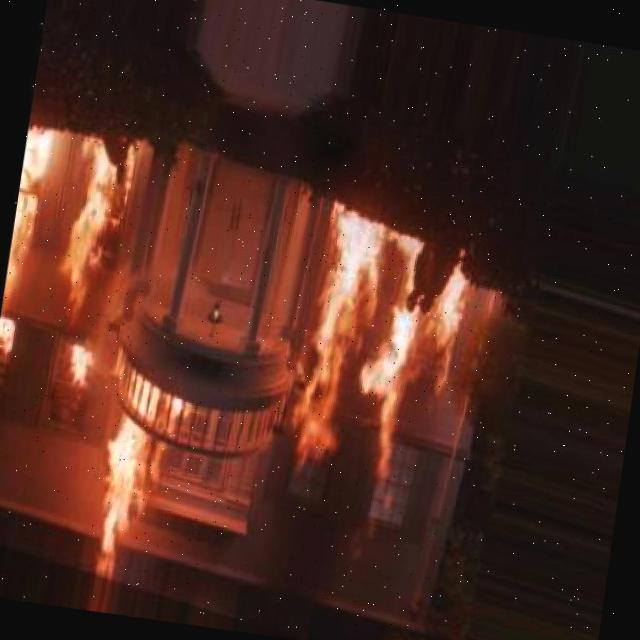fire: (346, 255, 471, 536), (282, 204, 392, 467), (87, 353, 196, 567), (59, 138, 137, 314), (57, 328, 102, 414)
